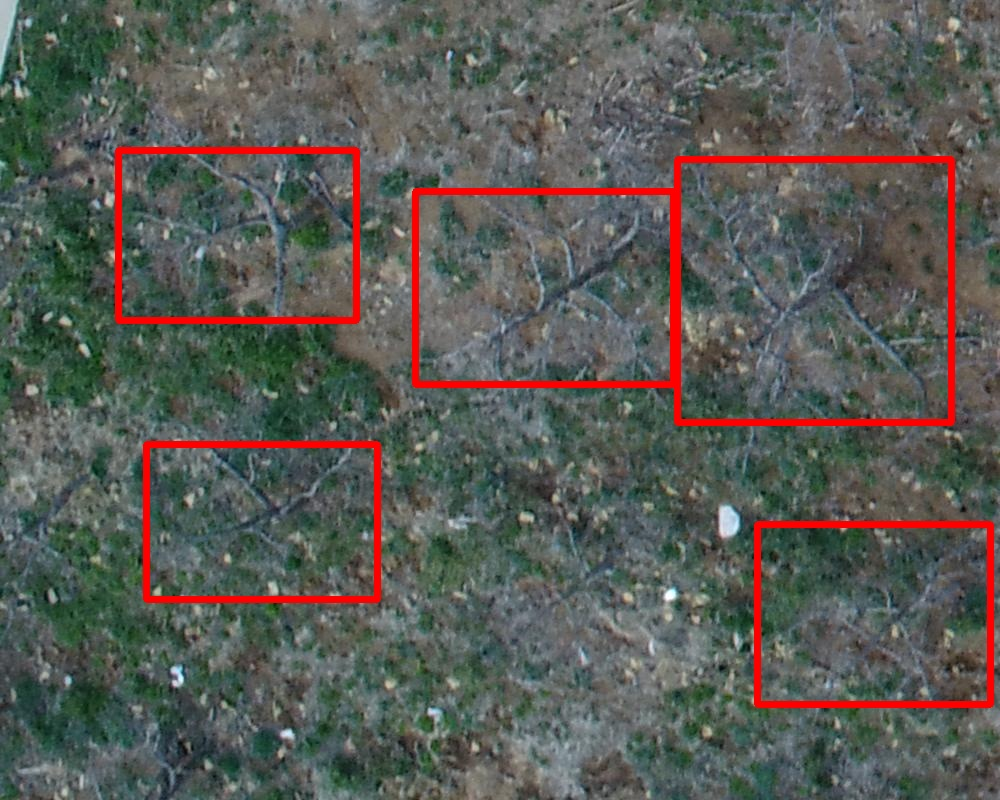apple: (677, 159, 951, 422), (415, 191, 673, 384), (757, 524, 990, 704), (118, 150, 356, 320), (146, 444, 377, 599)
